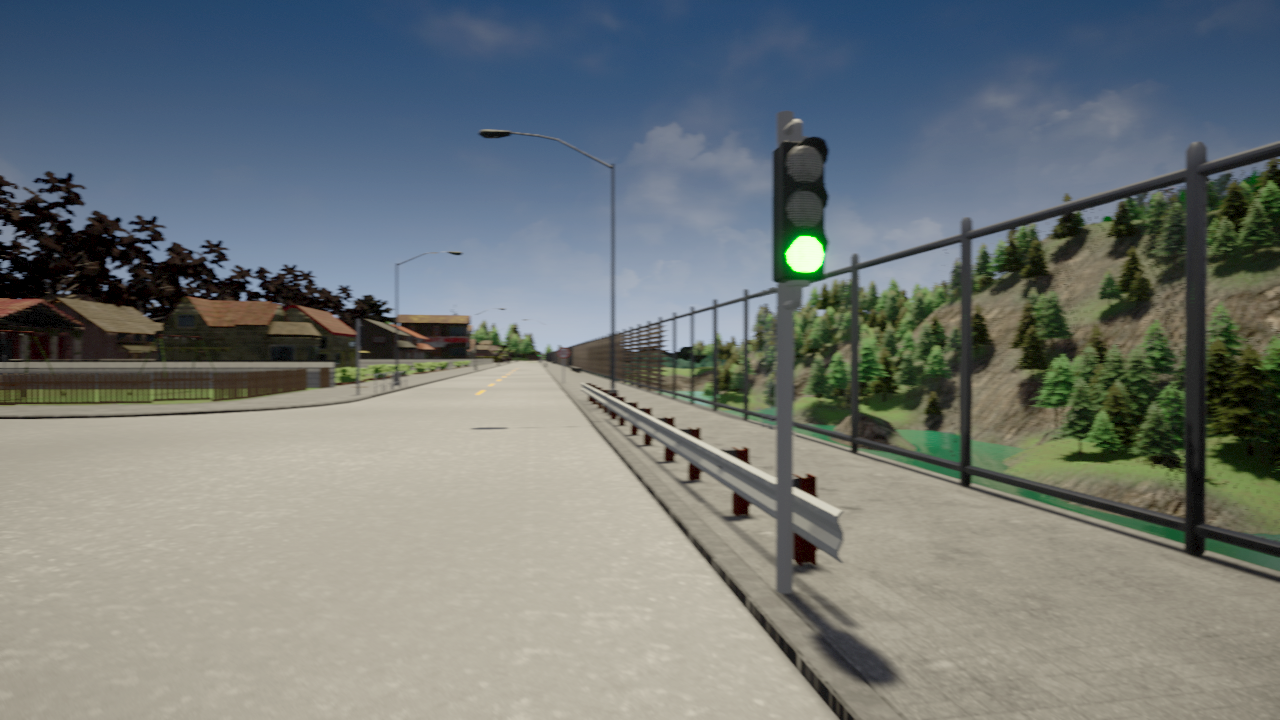green: (771, 131, 827, 279)
